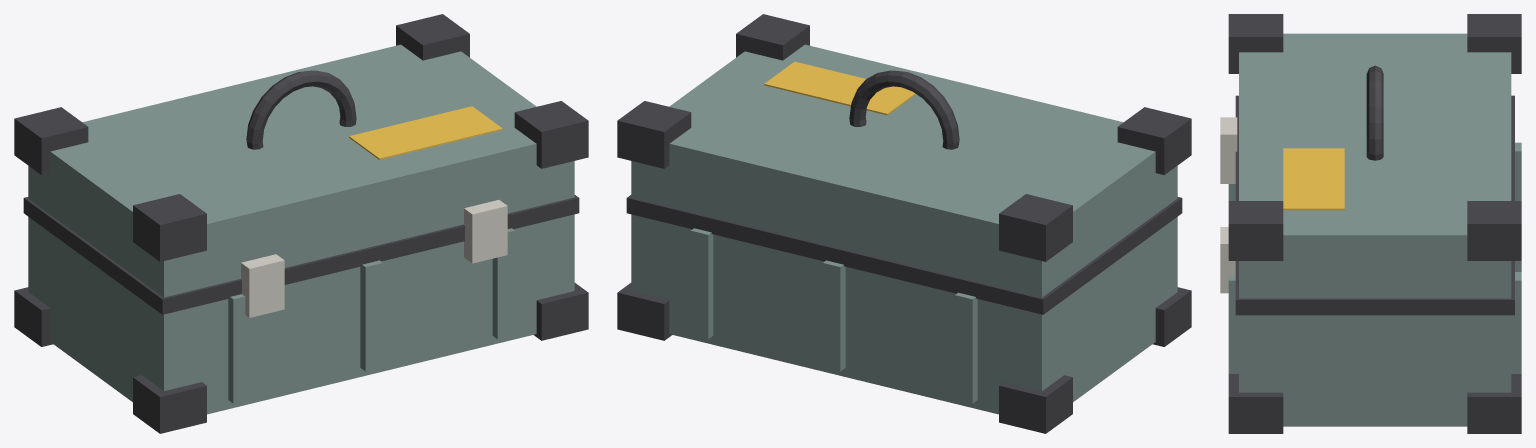
File: cargo-case.glb
3 views of the same model, side by side, from view 1: azimuth 30°, elevation 25°; view 2: azimuth 150°, elevation 25°; view 3: azimuth 270°, elevation 25° (orthographic).
Visible parts, largest first — view 1: geometry_0, geometry_1, geometry_11, geometry_19, geometry_15, geometry_10, geometry_9, geometry_18, geometry_14, geometry_6, geometry_17, geometry_16 (+4 smaller); view 2: geometry_0, geometry_1, geometry_10, geometry_14, geometry_19, geometry_11, geometry_8, geometry_18, geometry_4, geometry_15, geometry_3, geometry_2 (+2 smaller); view 3: geometry_0, geometry_1, geometry_19, geometry_15, geometry_14, geometry_13, geometry_12, geometry_11, geometry_10, geometry_18, geometry_16, geometry_7 (+3 smaller).
Part boxes in pixels (box(x1,y1,x2,y2)): geometry_0: box(28, 44, 574, 414); geometry_1: box(23, 195, 579, 314); geometry_11: box(133, 194, 206, 261); geometry_19: box(349, 106, 502, 159); geometry_15: box(514, 101, 588, 168); geometry_10: box(14, 107, 88, 174); geometry_9: box(133, 375, 206, 433); geometry_18: box(246, 70, 356, 149); geometry_14: box(396, 14, 469, 60); geometry_6: box(360, 260, 382, 371); geometry_17: box(464, 200, 507, 263); geometry_16: box(241, 254, 284, 317); geometry_0: box(631, 44, 1177, 414); geometry_1: box(626, 195, 1182, 314); geometry_10: box(999, 194, 1072, 261); geometry_14: box(617, 101, 691, 168); geometry_19: box(764, 61, 915, 115); geometry_11: box(1117, 107, 1191, 174); geometry_8: box(999, 375, 1072, 433); geometry_18: box(849, 70, 959, 149); geometry_4: box(690, 228, 713, 339); geometry_15: box(736, 14, 809, 60); geometry_3: box(823, 260, 845, 371); geometry_2: box(955, 292, 977, 403); geometry_0: box(1239, 33, 1511, 426); geometry_1: box(1235, 95, 1514, 315); geometry_19: box(1283, 148, 1344, 210); geometry_15: box(1228, 201, 1283, 260); geometry_14: box(1467, 201, 1521, 260); geometry_13: box(1228, 374, 1283, 433); geometry_12: box(1467, 374, 1521, 433); geometry_11: box(1228, 14, 1283, 73); geometry_10: box(1467, 14, 1521, 73); geometry_18: box(1366, 65, 1383, 160); geometry_16: box(1220, 117, 1237, 183); geometry_7: box(1228, 275, 1238, 373).
Bounding box in the file's own units: 1.46 × 0.835 × 0.885.
